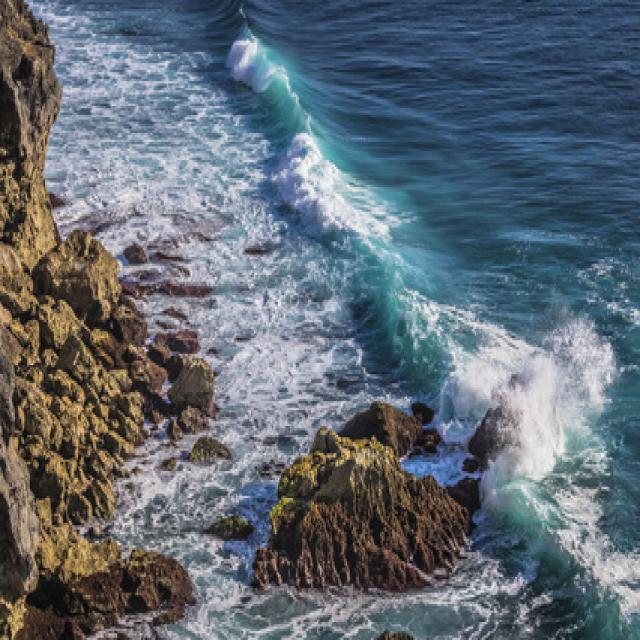reef: (244, 372, 513, 600), (100, 183, 227, 497)
